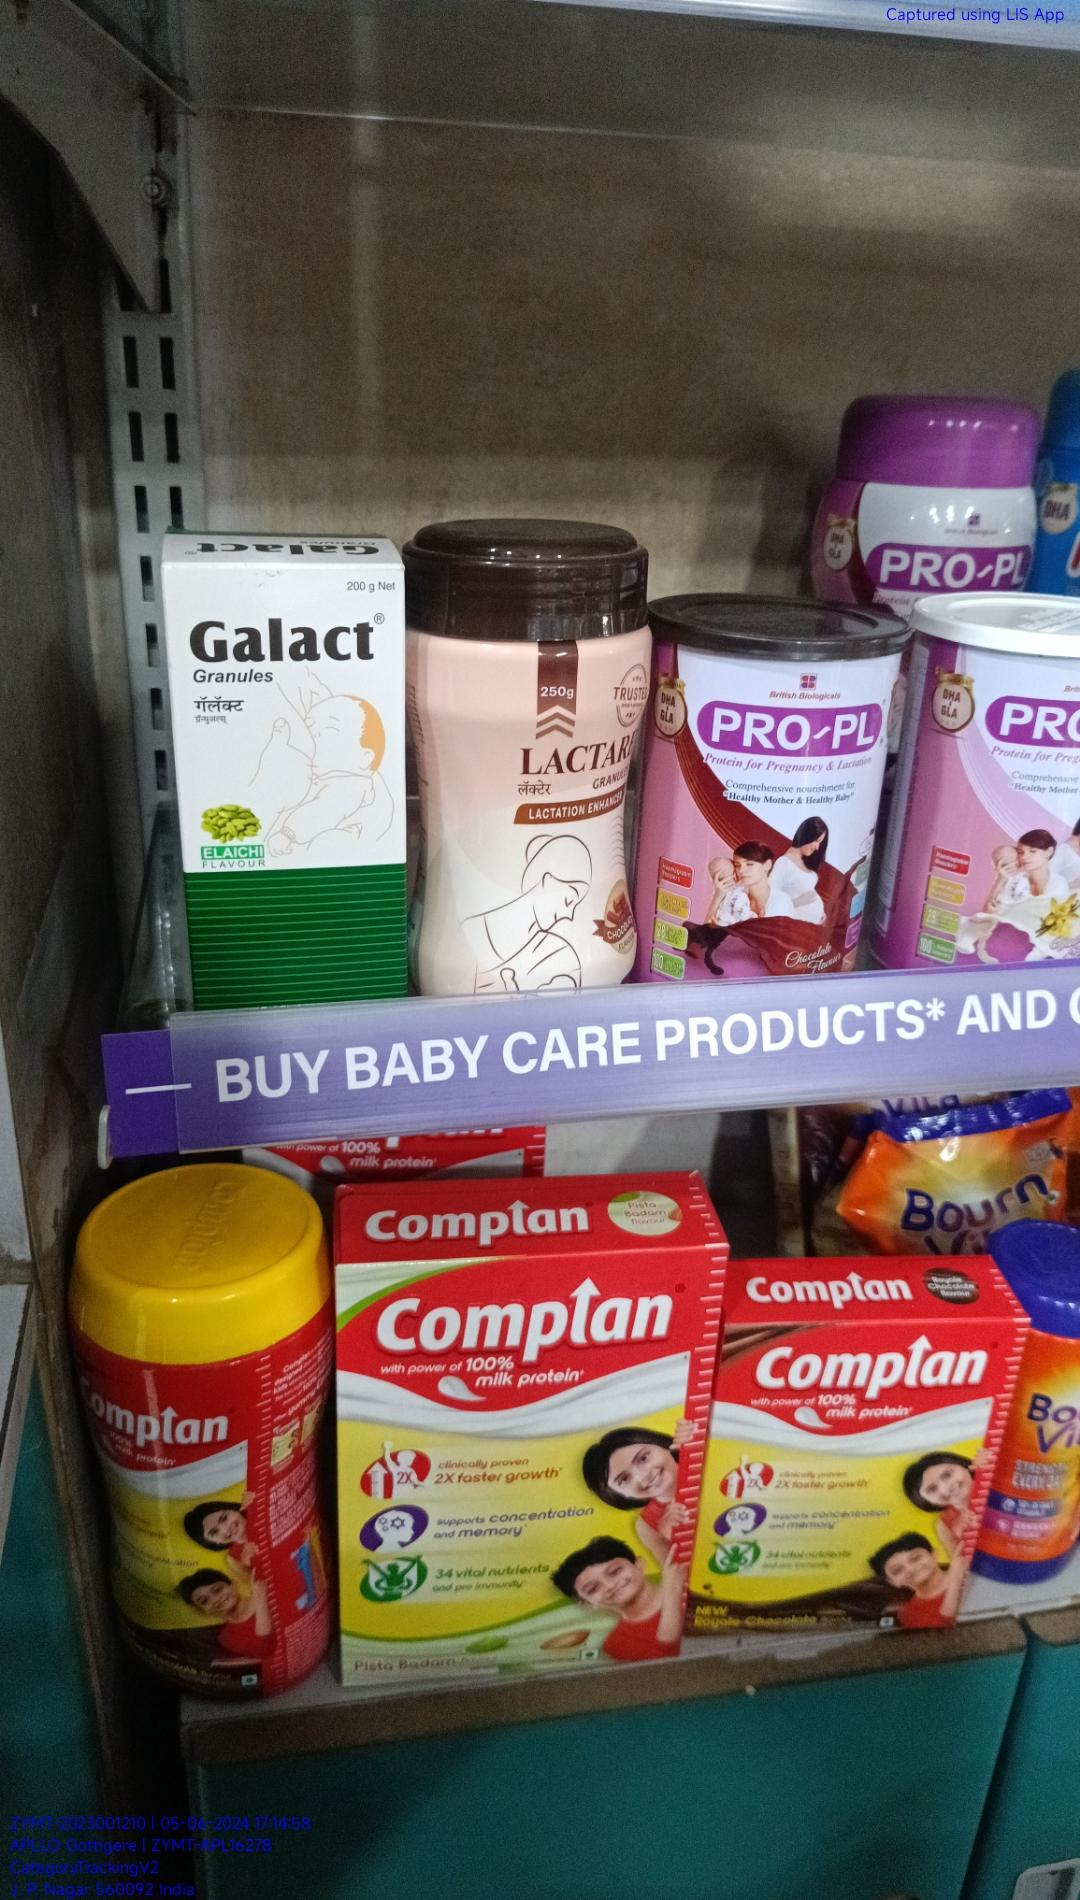COMPLAN_CHOCOLATE_200_GMS_PACK: (715, 1322, 1000, 1647)
COMPLAN_PISTA_BADAM_500_GMS_PACK: (335, 1249, 712, 1700)
